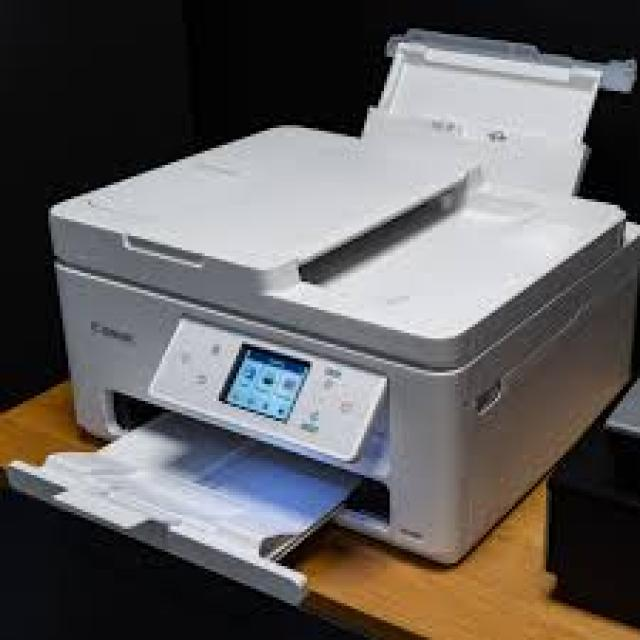printer: (6, 25, 637, 606)
